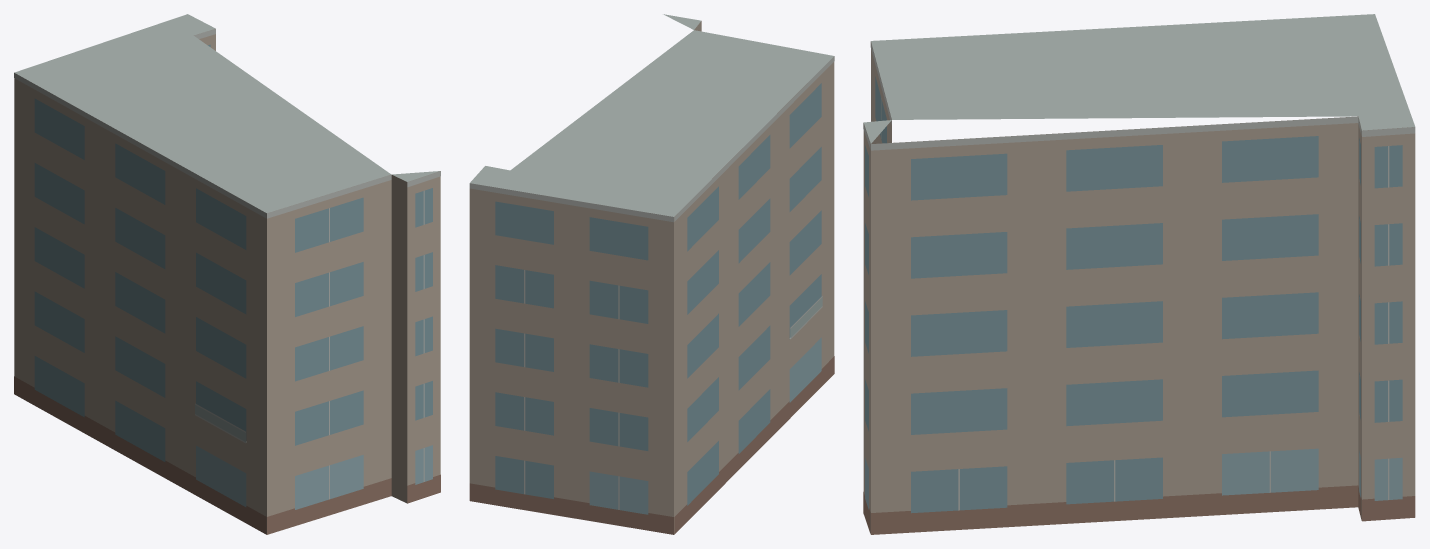
The model's file is survey-upis-32715307.glb.
3 renders of one model, left to right at view 1: azimuth 30°, elevation 25°; view 2: azimuth 150°, elevation 25°; view 3: azimuth 270°, elevation 25°, orthographic. The views are drawn at different scales.
Parts seen in each view (by area): view 1: survey-upis-32715307.tmp; view 2: survey-upis-32715307.tmp; view 3: survey-upis-32715307.tmp.
Boxes of the visible parts, x1,y1,x2,y2 form: survey-upis-32715307.tmp: (14, 14, 440, 534); survey-upis-32715307.tmp: (469, 14, 834, 534); survey-upis-32715307.tmp: (863, 14, 1415, 534).
Bounding box in the file's own units: 10.36 × 14.5 × 18.57.
